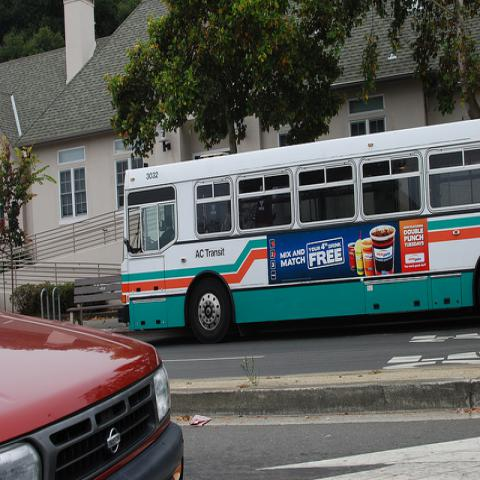bus: (121, 120, 479, 345)
car: (0, 313, 186, 474)
truck: (0, 302, 187, 475)
